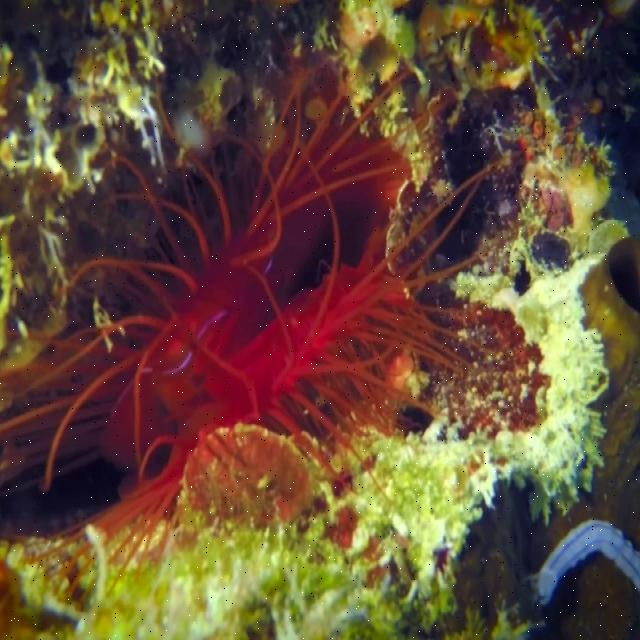reefs: (0, 19, 520, 628), (531, 516, 639, 605)
